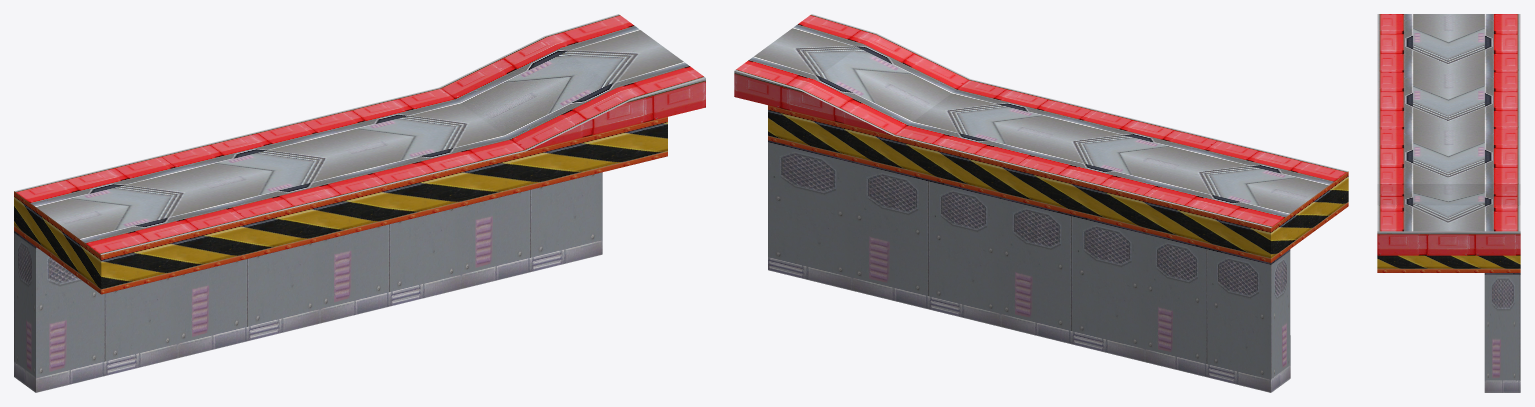
Rendered from S13_ONS_15.OBJ.
The picture shows the model from 3 angles, left to right: view 1: azimuth 30°, elevation 25°; view 2: azimuth 150°, elevation 25°; view 3: azimuth 270°, elevation 25°; orthographic projection. The views are drawn at different scales.
Parts seen in each view (by area): view 1: s13_ons_15_1, s13_ons_15_3, s13_ons_15_2; view 2: s13_ons_15_3, s13_ons_15_1, s13_ons_15_2; view 3: s13_ons_15_1, s13_ons_15_3, s13_ons_15_2.
Boxes of the visible parts, bbox=[...] form: s13_ons_15_1: bbox=[14, 14, 705, 254]; s13_ons_15_3: bbox=[14, 172, 602, 392]; s13_ons_15_2: bbox=[14, 117, 667, 294]; s13_ons_15_3: bbox=[768, 140, 1290, 392]; s13_ons_15_1: bbox=[734, 14, 1347, 227]; s13_ons_15_2: bbox=[768, 105, 1348, 262]; s13_ons_15_1: bbox=[1377, 14, 1520, 255]; s13_ons_15_3: bbox=[1484, 273, 1520, 392]; s13_ons_15_2: bbox=[1377, 255, 1520, 272].
Size of the model in its own units: 320 by 109 by 80.
5 materials, 5 textured.
